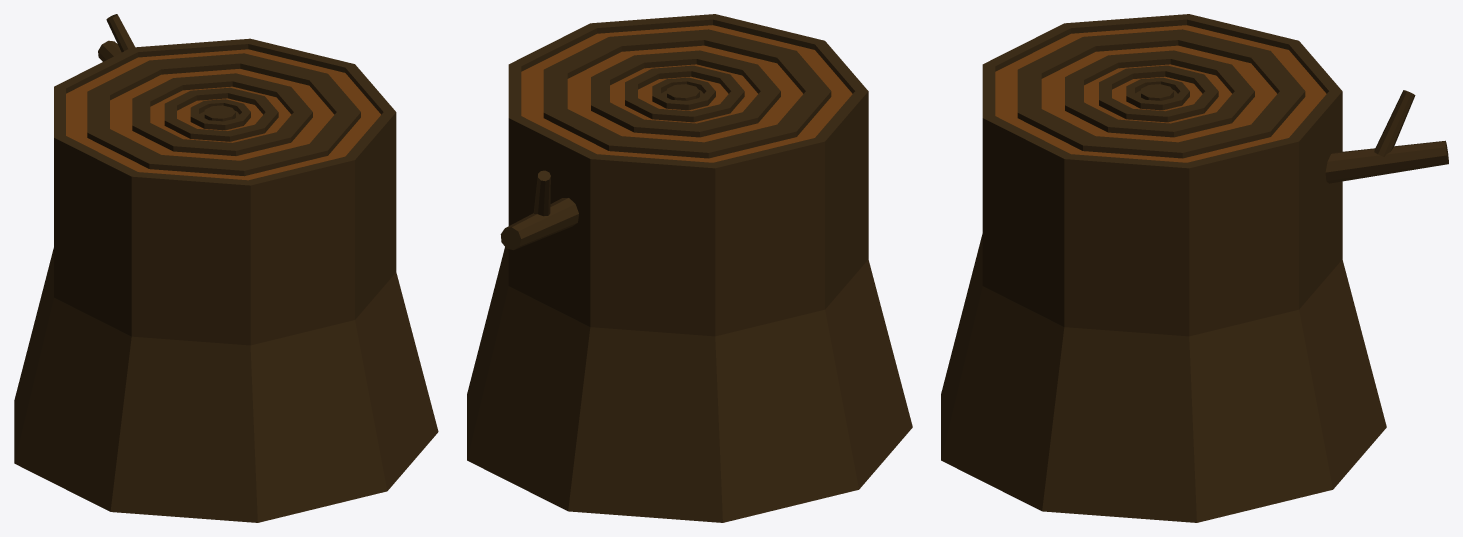
File: treestump.fbx
The picture shows the model from 3 angles, left to right: view 1: azimuth 30°, elevation 25°; view 2: azimuth 150°, elevation 25°; view 3: azimuth 270°, elevation 25°; orthographic projection. The views are drawn at different scales.
Parts seen in each view (by area): view 1: Cylinder, Cylinder.002; view 2: Cylinder, Cylinder.002; view 3: Cylinder, Cylinder.002.
Part boxes in pixels (left/top/right/bottom): Cylinder: left=14, top=38, right=438, bottom=522; Cylinder.002: left=98, top=14, right=134, bottom=61; Cylinder: left=467, top=14, right=912, bottom=522; Cylinder.002: left=500, top=170, right=578, bottom=250; Cylinder: left=941, top=14, right=1386, bottom=522; Cylinder.002: left=1325, top=90, right=1448, bottom=183.
Size of the model in its own units: 244 by 204 by 274.
